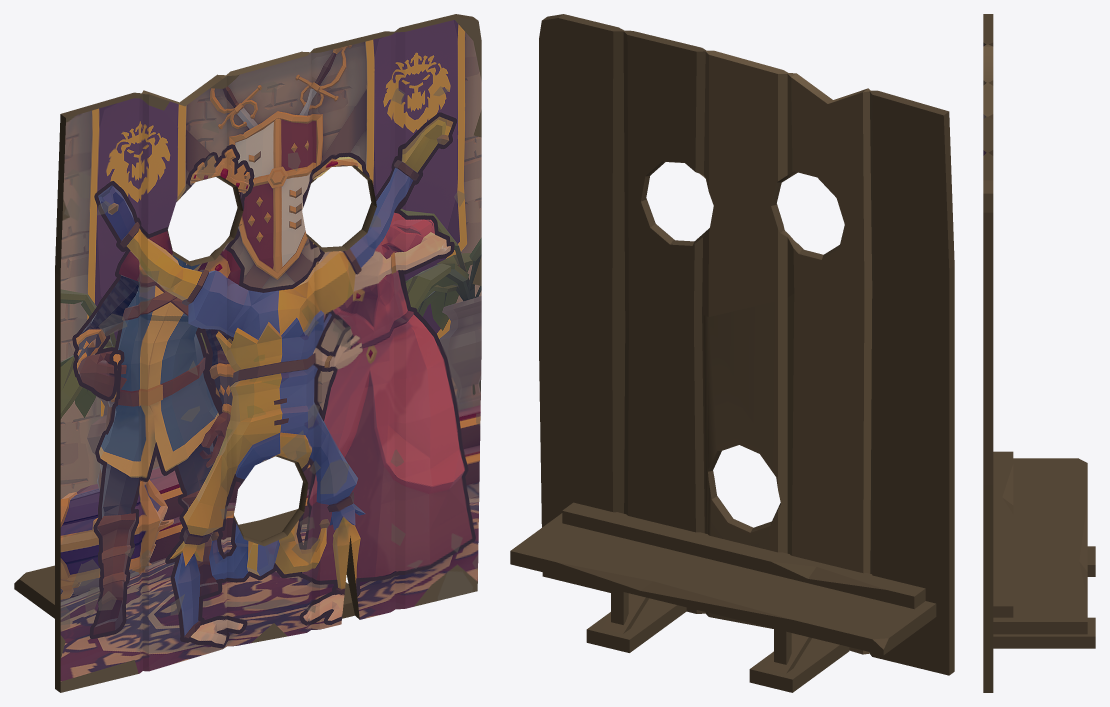
Rendered from SM_Prop_Photo_Stand_03.fbx.
3 renders of one model, left to right at view 1: azimuth 30°, elevation 25°; view 2: azimuth 150°, elevation 25°; view 3: azimuth 270°, elevation 25°, orthographic. The views are drawn at different scales.
Visible parts, largest first — view 1: SM_Prop_Photo_Stand_03; view 2: SM_Prop_Photo_Stand_03; view 3: SM_Prop_Photo_Stand_03.
Part boxes in pixels (bbox=[...]): SM_Prop_Photo_Stand_03: bbox=[14, 14, 481, 692]; SM_Prop_Photo_Stand_03: bbox=[510, 14, 954, 692]; SM_Prop_Photo_Stand_03: bbox=[983, 14, 1095, 692].
Size of the model in its own units: 157 by 205 by 41.32.
